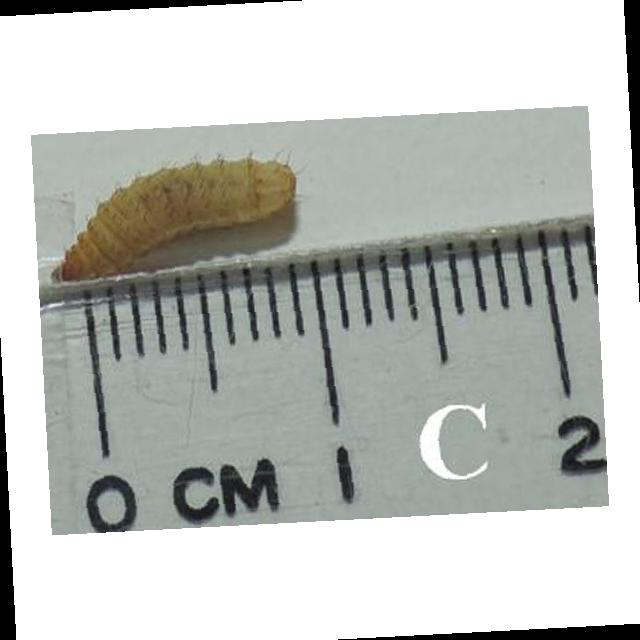Maggot: (53, 155, 303, 283)
